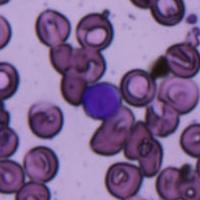L: (82, 81, 121, 121)
